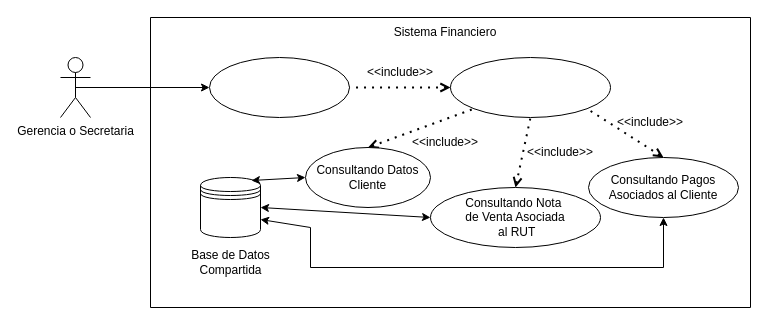
Image size: 768x325. Some labels were removed from this diagram. The shapes that lost their labels are listed below. From the top down, each one's centre as x and y in pixels, then its label:
[279,87]: Visualizando ficha financiera del Cliente
[530,87]: Seleccionando cliente en listado
